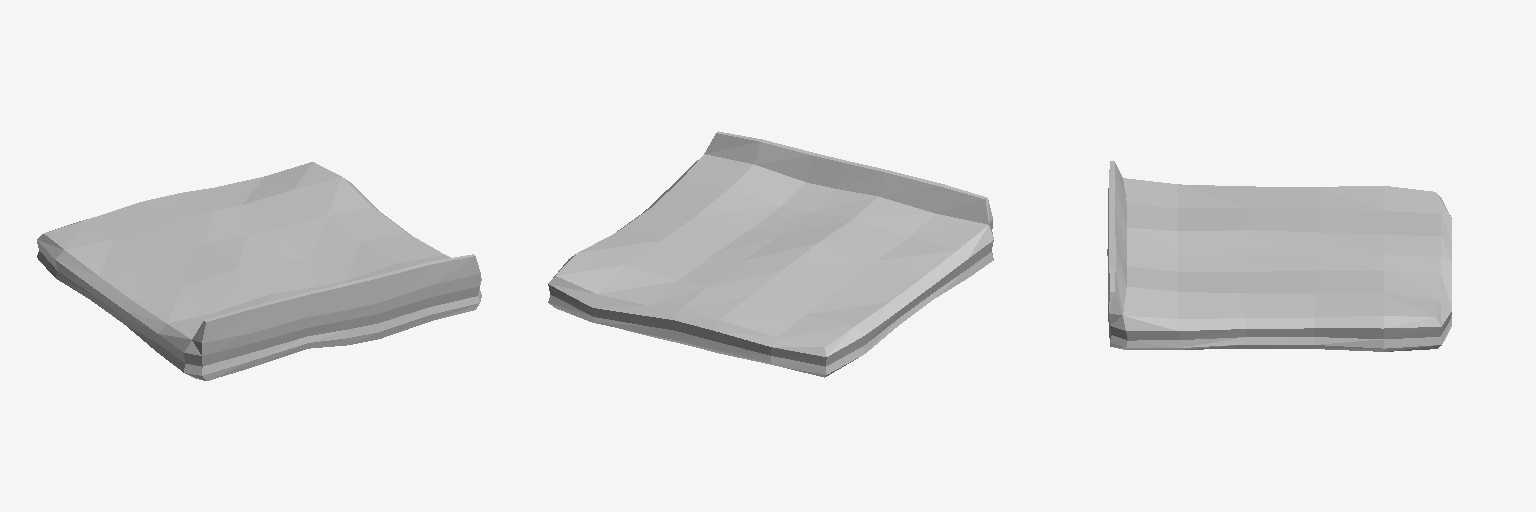
Rendered from PLATFORM2plant.OBJ.
The picture shows the model from 3 angles: view 1: azimuth 30°, elevation 25°; view 2: azimuth 150°, elevation 25°; view 3: azimuth 270°, elevation 25°; orthographic projection.
Parts seen in each view (by area): view 1: Group2; view 2: Group2; view 3: Group2.
Part boxes in pixels (x1,y1,x2,y2): Group2: (37, 162, 481, 380); Group2: (548, 131, 993, 377); Group2: (1107, 161, 1451, 351).
Bounding box in the file's own units: 4.42 × 0.9132 × 4.43.